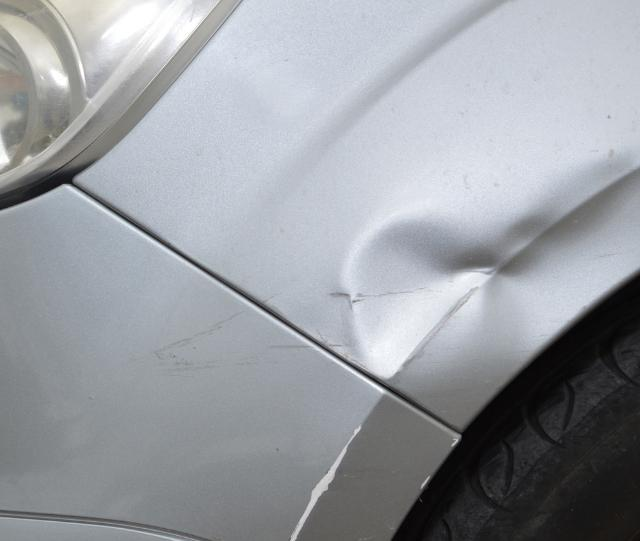dent: (349, 144, 640, 377)
scratch: (287, 422, 367, 541)
